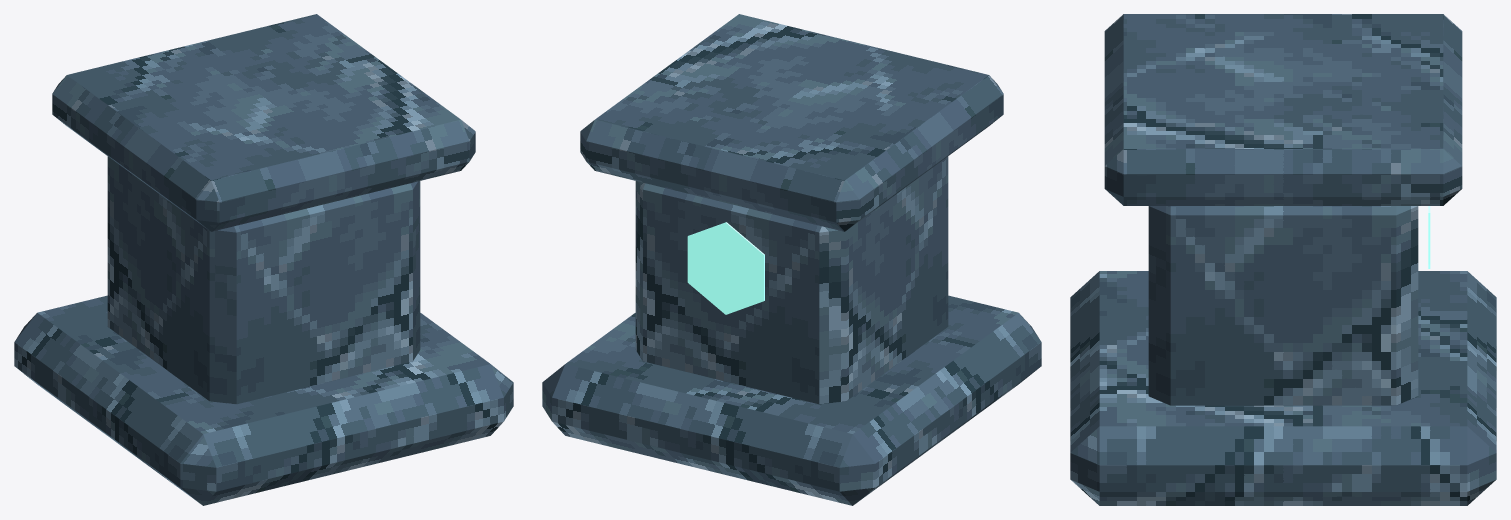
The model's file is totem_dominio.fbx.
3 views of the same model, side by side, from view 1: azimuth 30°, elevation 25°; view 2: azimuth 150°, elevation 25°; view 3: azimuth 270°, elevation 25° (orthographic). The views are drawn at different scales.
Parts seen in each view (by area): view 1: neve_totem_dominio; view 2: neve_totem_dominio; view 3: neve_totem_dominio.
Boxes of the visible parts, left/top/right/bottom form: neve_totem_dominio: left=14, top=14, right=513, bottom=505; neve_totem_dominio: left=542, top=14, right=1041, bottom=505; neve_totem_dominio: left=1070, top=14, right=1496, bottom=505.
Bounding box in the file's own units: 68 × 61 × 68.
2 materials, 1 textured.
